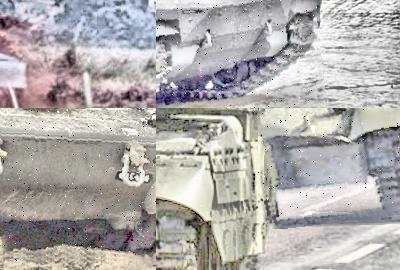tanks: (1, 109, 157, 260), (157, 109, 280, 270), (157, 1, 317, 99), (261, 109, 400, 215)
